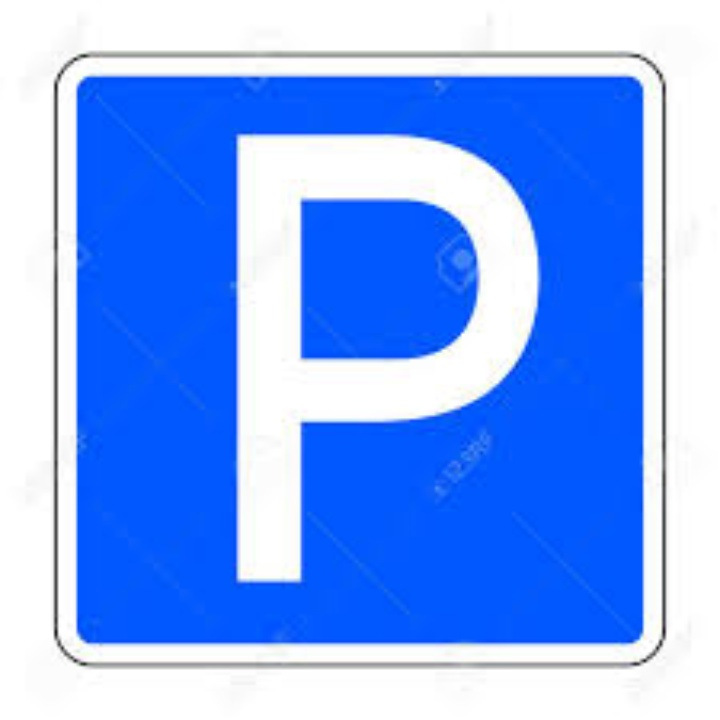parking: (227, 124, 548, 603)
